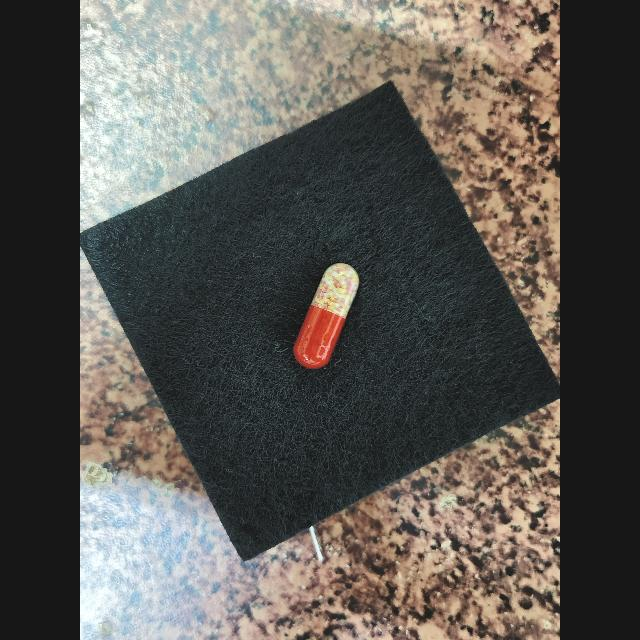Intact Capsule: (293, 263, 359, 369)
